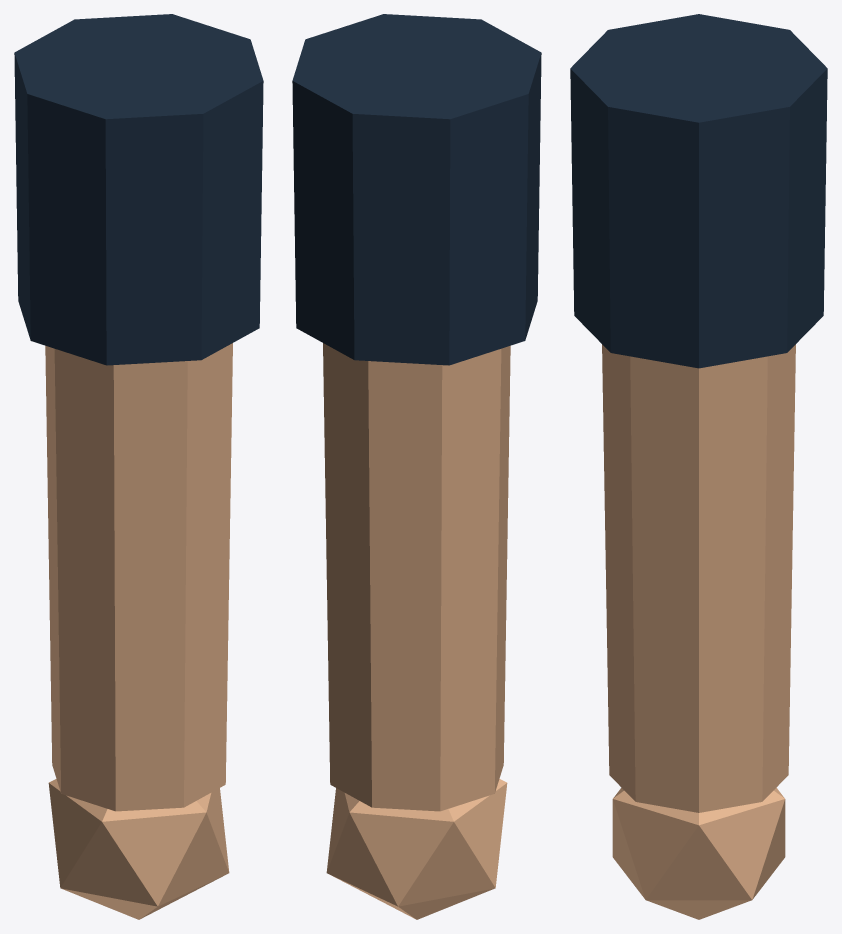
The model's file is insan_e1s_kol.glb.
The picture shows the model from 3 angles, left to right: view 1: azimuth 30°, elevation 25°; view 2: azimuth 150°, elevation 25°; view 3: azimuth 270°, elevation 25°; orthographic projection.
Parts seen in each view (by area): view 1: Cone; view 2: Cone; view 3: Cone.
Boxes of the visible parts, <box> form: Cone: <box>14,14,263,919</box>; Cone: <box>292,14,541,919</box>; Cone: <box>570,14,827,919</box>.
Bounding box in the file's own units: 0.033 × 0.1205 × 0.033.
